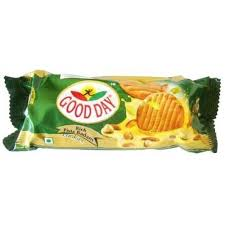gooday-small: (8, 71, 219, 150)
